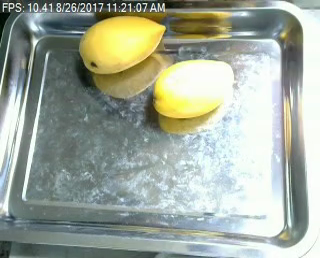Mango: (79, 15, 165, 73), (153, 60, 233, 117)
